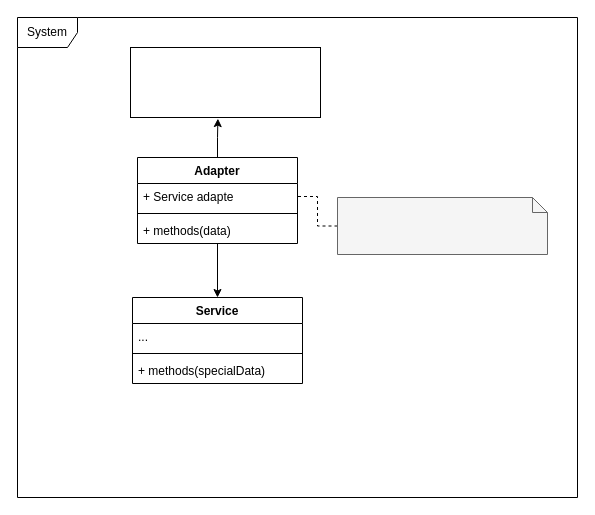
Some shapes in this 595 by 515 pixel diagram are drawn without their labels. Each missing label, with the centre of its shape:
<<Interface>> UseInterface + methods(data): the point at 225,82
Aqui será realizado a adaptações para a interface: the point at 442,225
